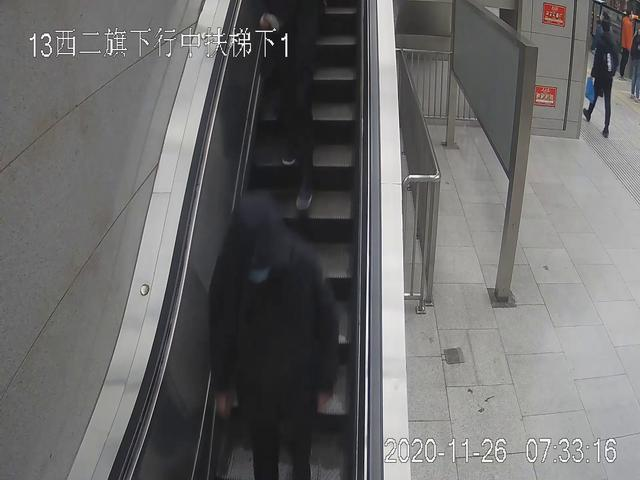person: (208, 191, 339, 480), (583, 21, 618, 137), (620, 9, 633, 79)
